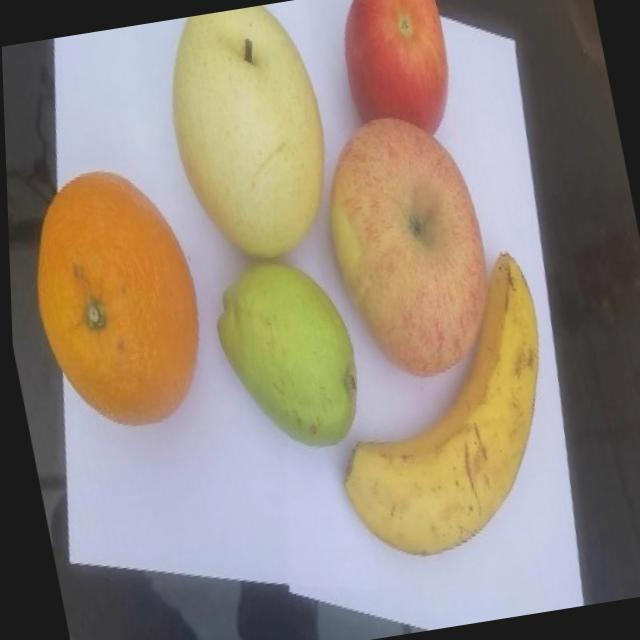Apple: (305, 105, 508, 385), (324, 0, 466, 158)
Banana: (301, 250, 574, 570)
Orange: (8, 158, 217, 444)
